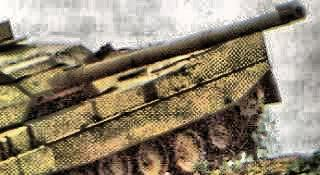tanks: (1, 4, 306, 175)
